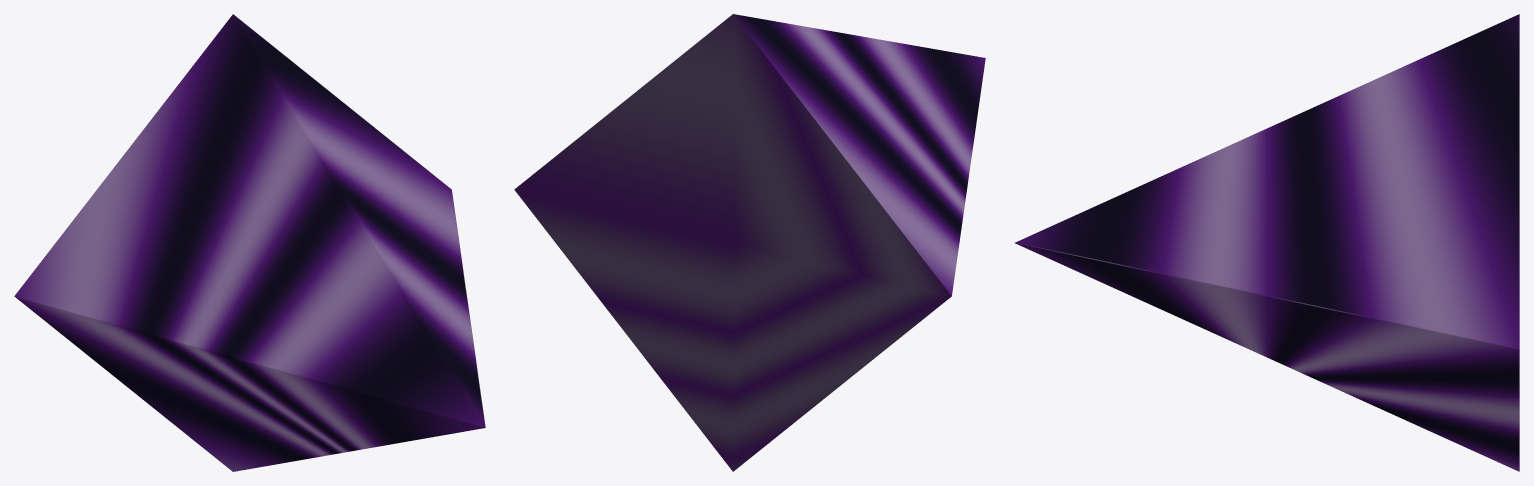
The model's file is pyramid-cosmic.glb.
3 renders of one model, left to right at view 1: azimuth 30°, elevation 25°; view 2: azimuth 150°, elevation 25°; view 3: azimuth 270°, elevation 25°, orthographic.
Visible parts, largest first — view 1: world; view 2: world; view 3: world.
Part boxes in pixels (x1,y1,x2,y2): world: [14, 14, 485, 471]; world: [514, 14, 985, 471]; world: [1015, 14, 1519, 471].
Bounding box in the file's own units: 1.2 × 1.2 × 1.2.
Materials: 1 (1 with a texture image).
